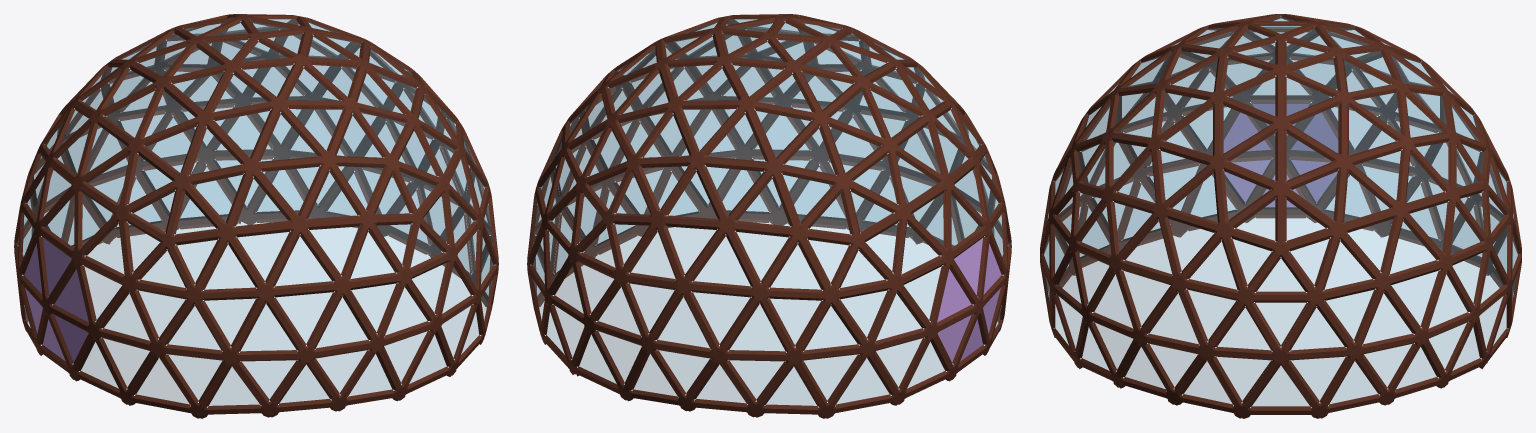
Rendered from Dome3.glb.
The picture shows the model from 3 angles, left to right: view 1: azimuth 30°, elevation 25°; view 2: azimuth 150°, elevation 25°; view 3: azimuth 270°, elevation 25°; orthographic projection.
Visible parts, largest first — view 1: Icosphere, Icosphere.001, Icosphere.003, Icosphere.002; view 2: Icosphere, Icosphere.001, Icosphere.003, Icosphere.002; view 3: Icosphere, Icosphere.003, Icosphere.001, Icosphere.002.
Part boxes in pixels (x1,y1,x2,y2): Icosphere: (14,14,498,418); Icosphere.001: (24,238,88,362); Icosphere.003: (423,145,491,273); Icosphere.002: (21,237,88,365); Icosphere: (527,14,1011,418); Icosphere.001: (937,238,1001,362); Icosphere.003: (534,145,602,273); Icosphere.002: (937,237,1004,365); Icosphere: (1040,14,1521,418); Icosphere.003: (1215,302,1346,407); Icosphere.001: (1223,104,1338,207); Icosphere.002: (1222,102,1339,204).
Size of the model in its own units: 1.99 by 1.31 by 1.99.
